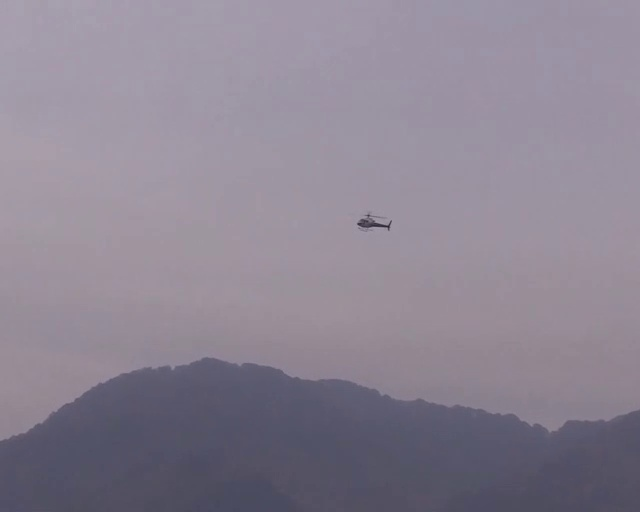HELICOPTER: (357, 211, 392, 231)
